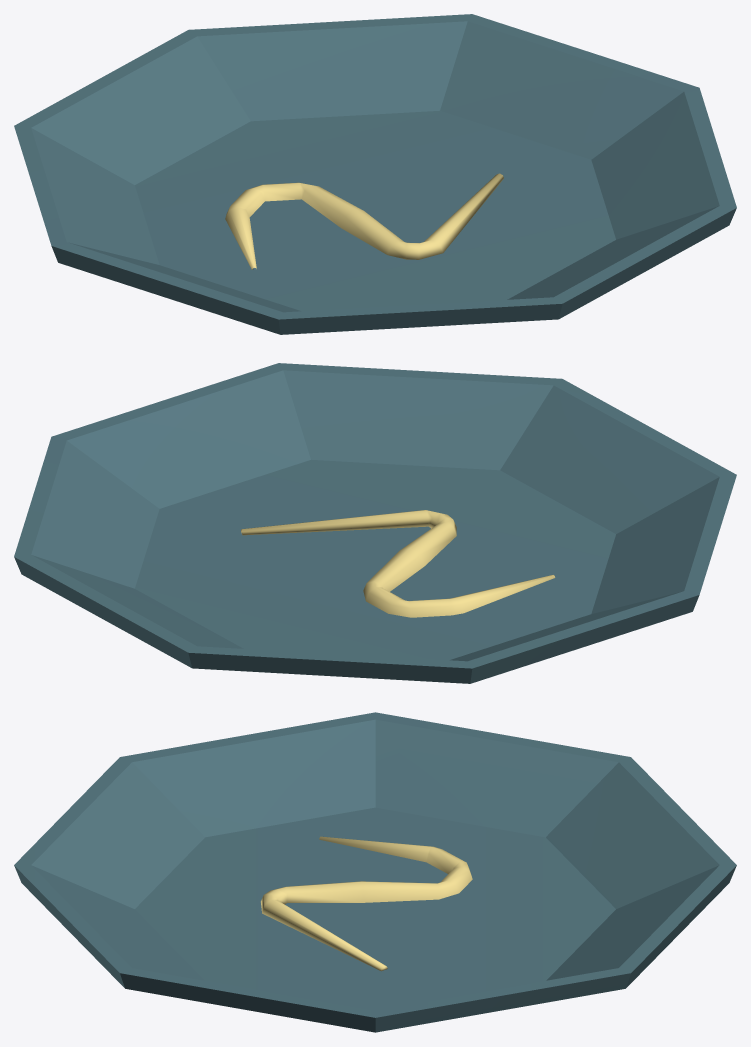
The model's file is plate-dirty1.glb.
3 renders of one model, top to bottom at view 1: azimuth 30°, elevation 25°; view 2: azimuth 150°, elevation 25°; view 3: azimuth 270°, elevation 25°, orthographic. The views are drawn at different scales.
Visible parts, largest first — view 1: PlateDirty1.001; view 2: PlateDirty1.001; view 3: PlateDirty1.001.
Part boxes in pixels (x1,y1,x2,y2): PlateDirty1.001: [14, 14, 736, 334]; PlateDirty1.001: [14, 363, 736, 683]; PlateDirty1.001: [14, 712, 736, 1032].
Bounding box in the file's own units: 0.3027 × 0.0269 × 0.3027.
1 material, 1 textured.
